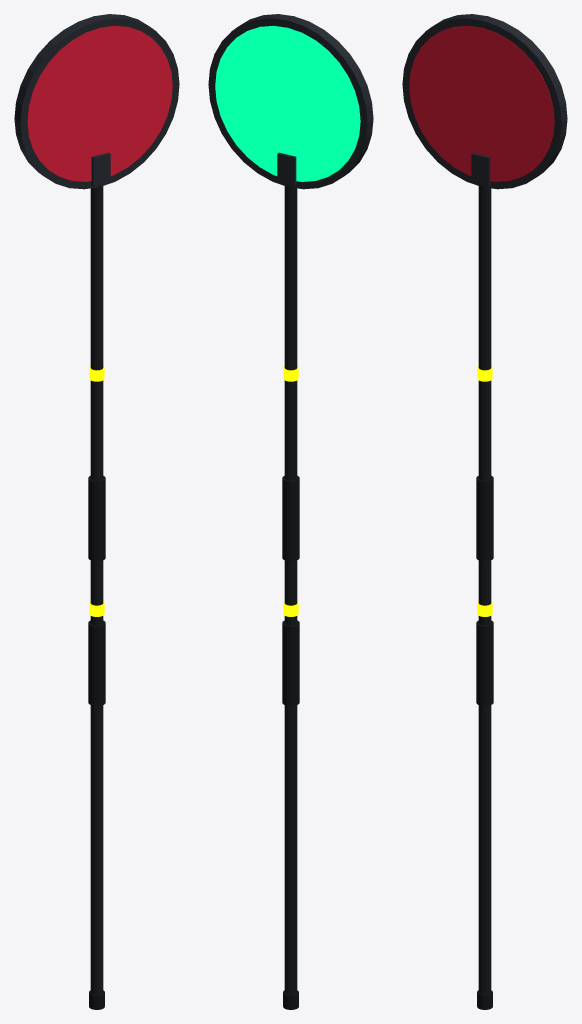
Rendered from lollipop_board.glb.
3 views of the same model, side by side, from view 1: azimuth 30°, elevation 25°; view 2: azimuth 150°, elevation 25°; view 3: azimuth 330°, elevation 25° (orthographic).
Parts seen in each view (by area): view 1: Prop_LollipopBoard; view 2: Prop_LollipopBoard; view 3: Prop_LollipopBoard.
Boxes of the visible parts, x1,y1,x2,y2 form: Prop_LollipopBoard: [14, 14, 179, 1009]; Prop_LollipopBoard: [208, 14, 373, 1009]; Prop_LollipopBoard: [402, 14, 567, 1009].
Size of the model in its own units: 0.46 by 2.73 by 0.05.
